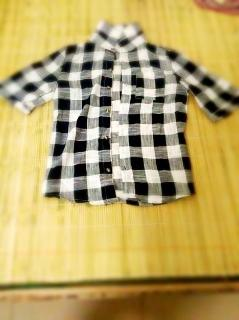short sleeve outwear: (0, 21, 239, 207)
